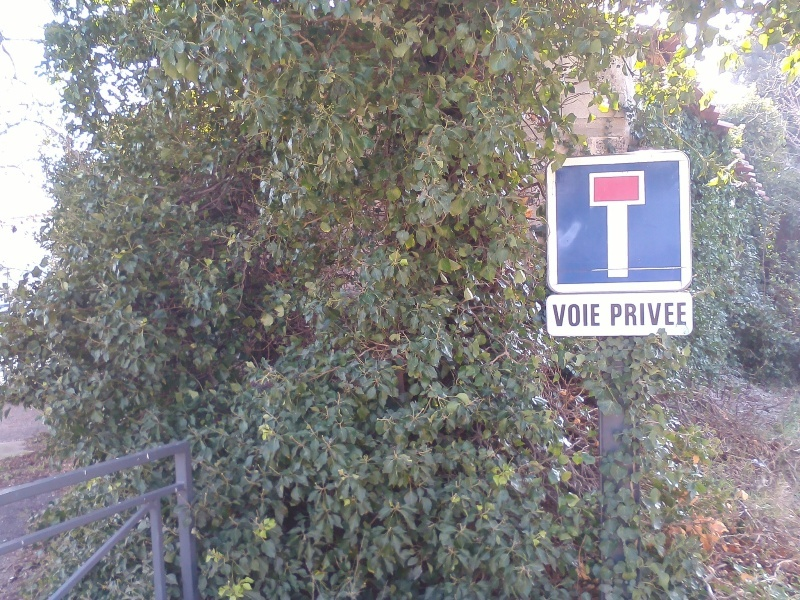text: (673, 302, 689, 327), (609, 302, 624, 327), (625, 302, 640, 327), (641, 302, 656, 327), (657, 302, 672, 327), (561, 304, 576, 328), (577, 304, 592, 328), (593, 304, 601, 328), (553, 304, 560, 328)
